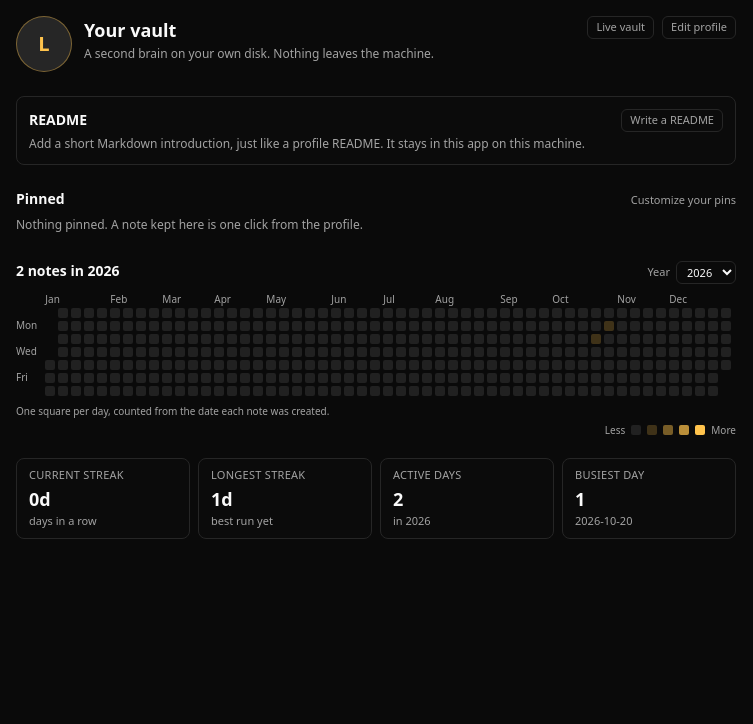
Test: ProfileView › pins a note from the picker and unpins it from its card
Click the button "Customize your pins" at (683, 200), box [631,192,736,208]
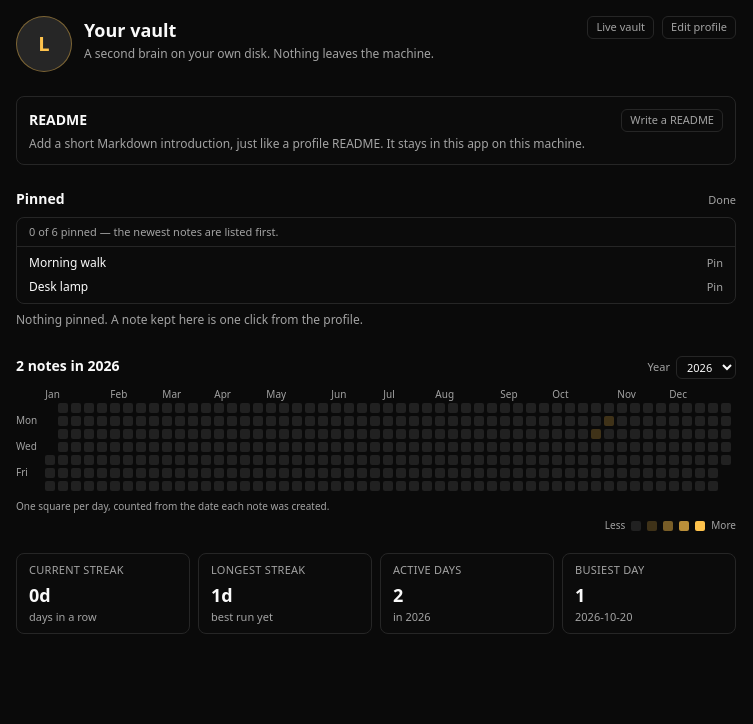
Click the button "Morning walk Pin" at (68, 262), box [21,251,731,275]
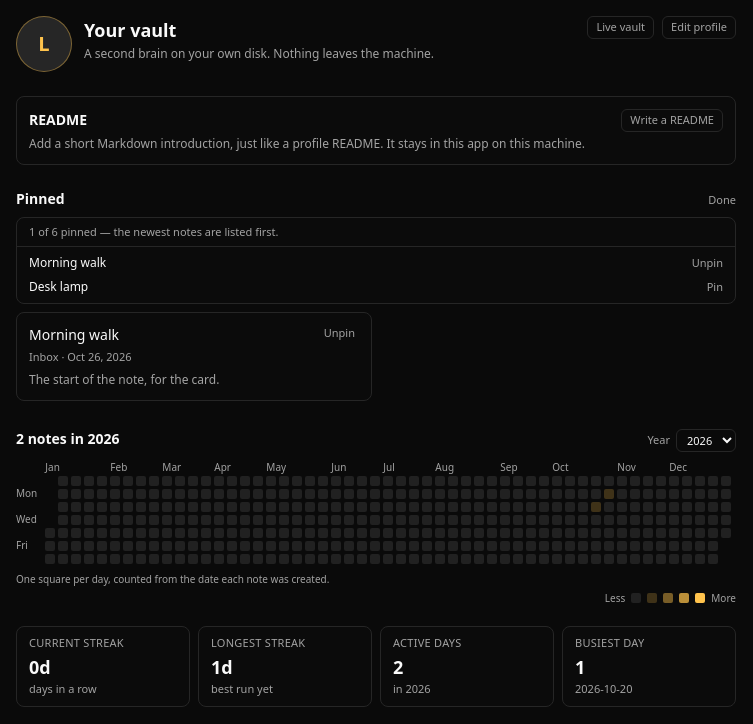
Expected: the button "Morning walk Unpin" is shown, [21,251,731,275]
Expected: the text "Inbox · Oct 26, 2026" is shown, [29,349,132,364]
Expected: the text "The start of the note, for the card." is shown, [29,370,219,388]
Click the button with aria-label "Unpin Morning walk" at (339, 333), box [320,325,359,342]
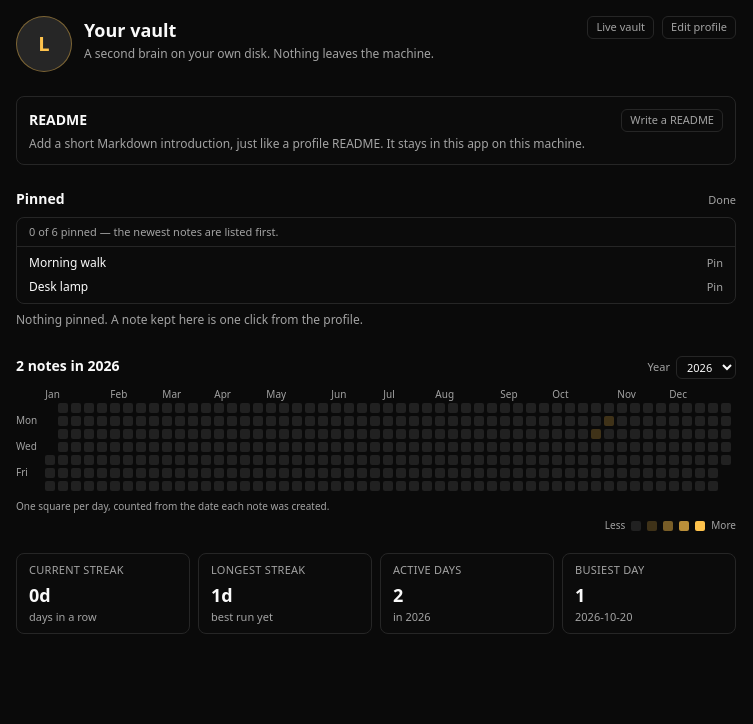
Expected: the text "Inbox · Oct 26, 2026" is gone
